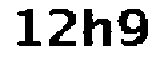1: (12, 4, 42, 49)
2: (44, 3, 79, 52)
9: (114, 4, 150, 50)
h: (80, 1, 114, 53)
